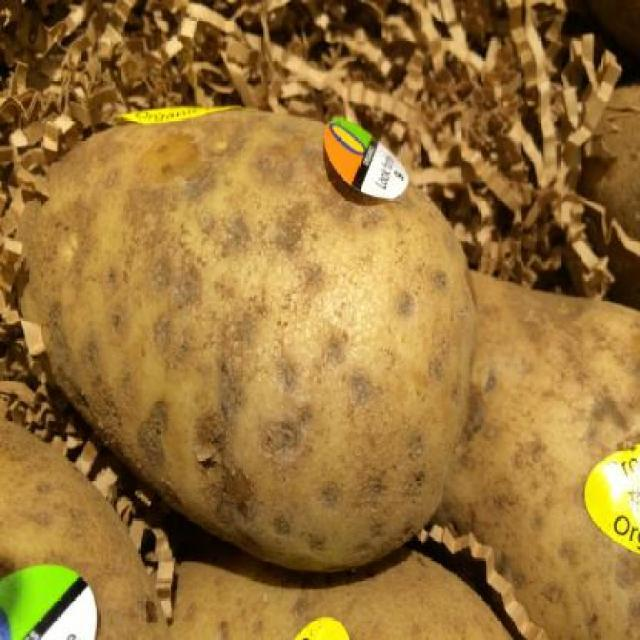Potato: (15, 103, 478, 572), (430, 266, 638, 639), (0, 418, 169, 639), (174, 548, 514, 640)
